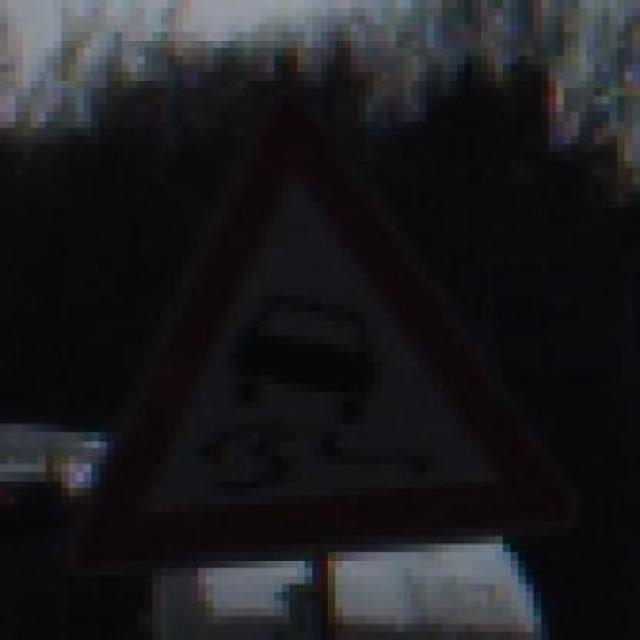Slippery Road Ahead: (69, 64, 572, 568)
